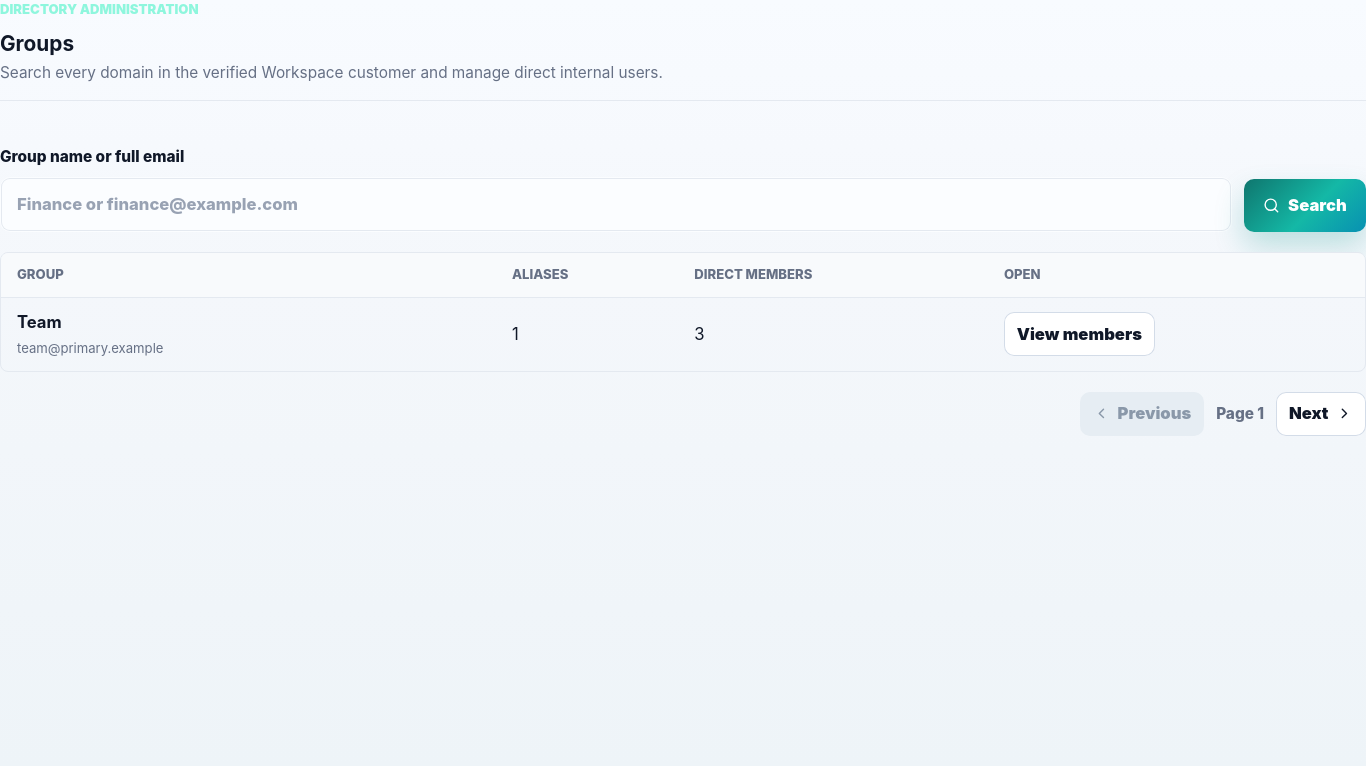
it: GroupManagement › shows group details and direct member limitations
Click the button "View members". click: x=1079, y=334
box: [1004,312,1155,356]
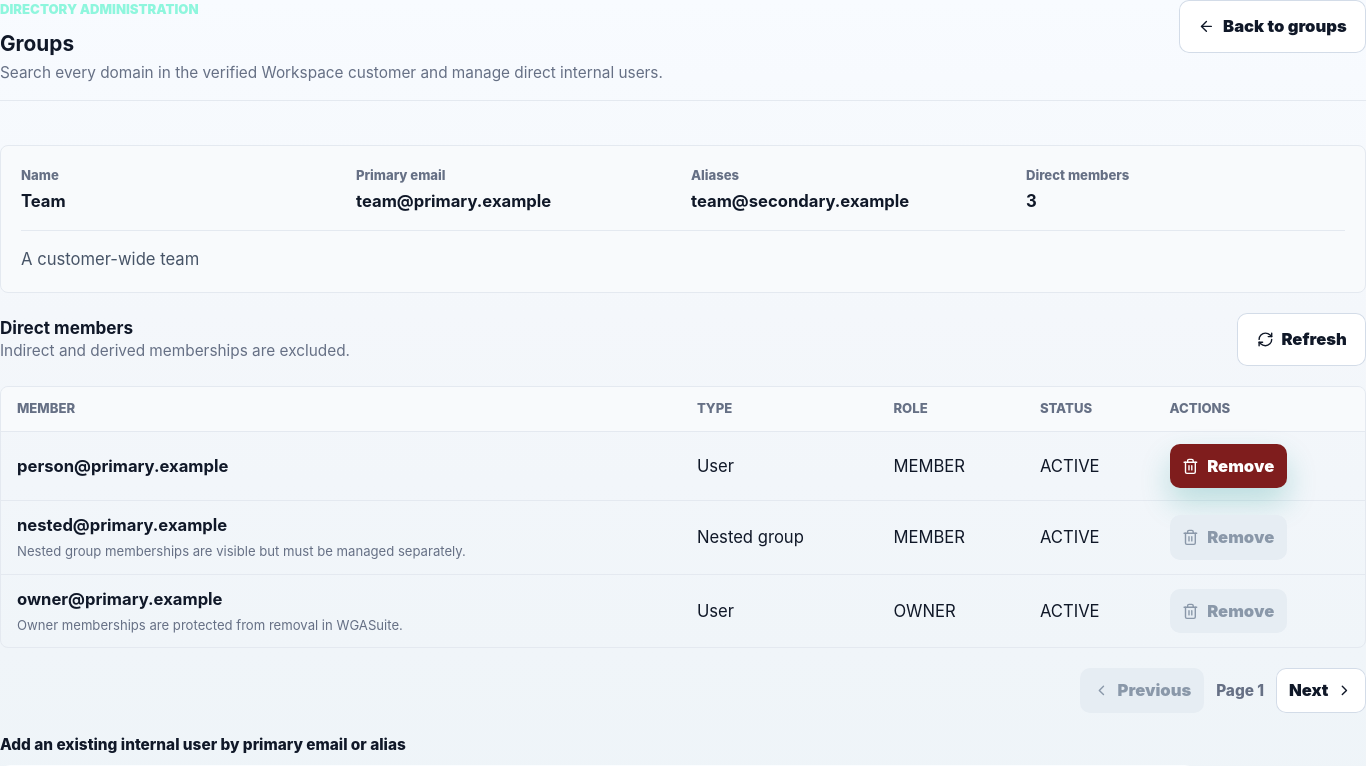
Result: the text "A customer-wide team" is shown at [21,230,1345,272]
Result: the text "Nested group" is shown at [681,501,877,574]
Result: the text "OWNER" is shown at [877,574,1024,647]
